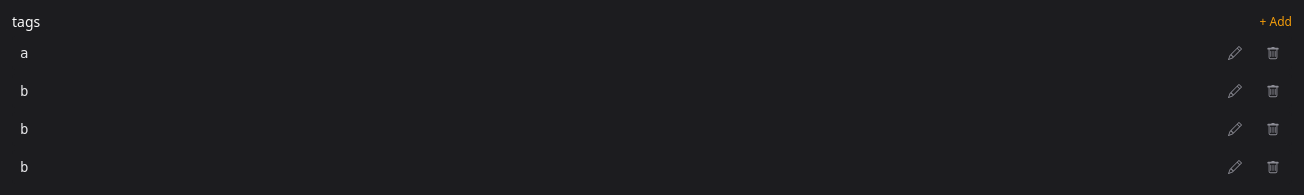
ListField with a controlled parent › closes the editor when an equal-valued removal makes the edited entry ambiguous
The width and height of the screenshot is (1304, 195).
Click the 2nd button titled "Edit b".
click(1235, 129)  # box [1220,114,1250,144]
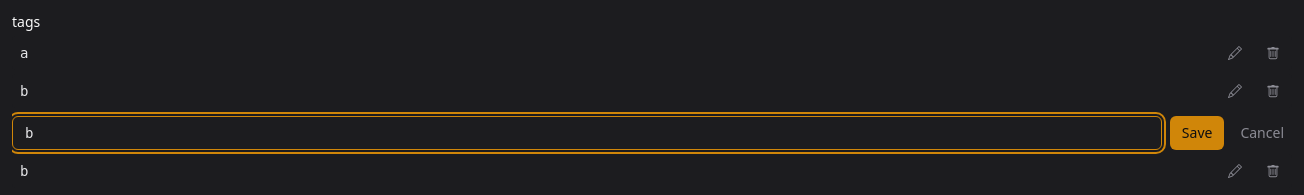
Click the 1st button titled "Remove ".
click(1273, 91)  # box [1258,76,1288,106]
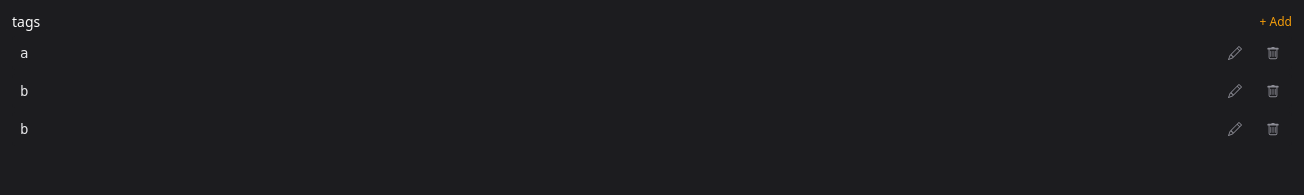
Result: the field is gone
